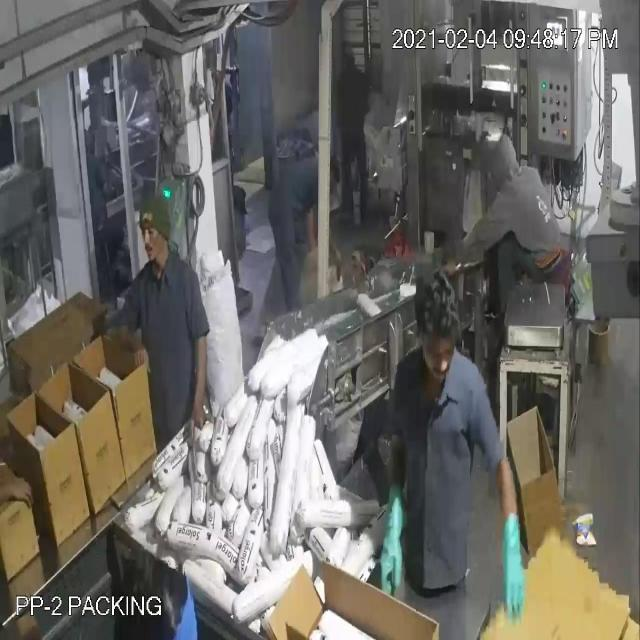No_Gloves: (28, 68, 517, 570)
